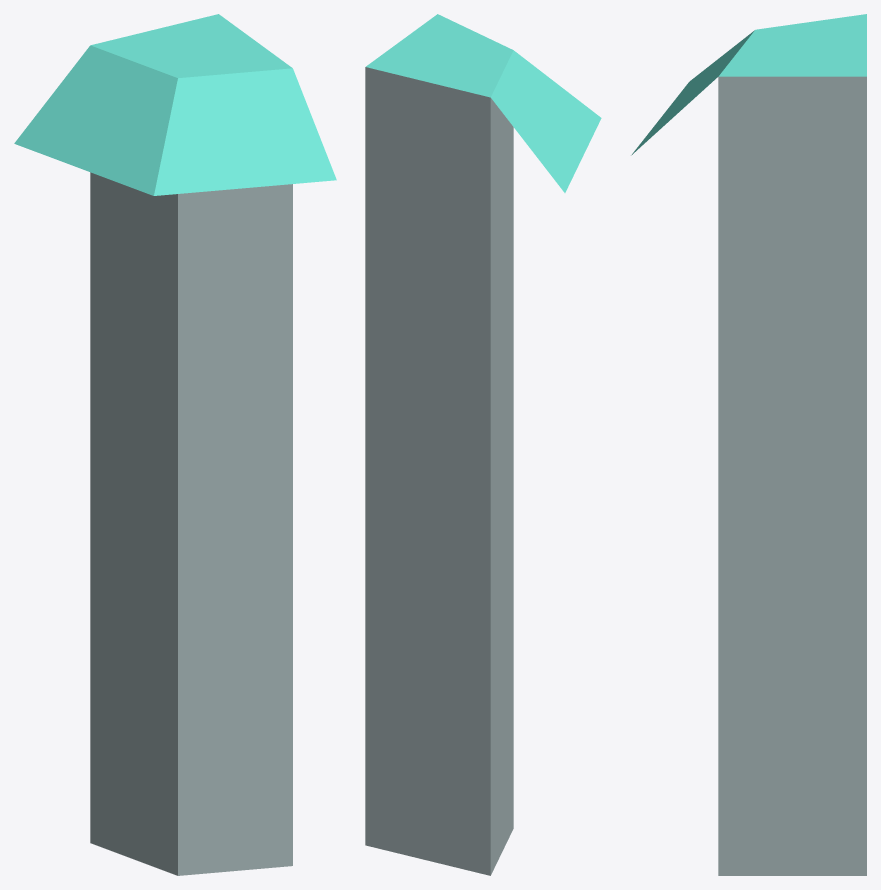
3 views of the same model, side by side, from view 1: azimuth 30°, elevation 25°; view 2: azimuth 150°, elevation 25°; view 3: azimuth 270°, elevation 25° (orthographic). The views are drawn at different scales.
Visible parts, largest first — view 1: cliff_cornerTop_stone; view 2: cliff_cornerTop_stone; view 3: cliff_cornerTop_stone.
Part boxes in pixels (x1,y1,x2,y2): cliff_cornerTop_stone: (14,14,336,875); cliff_cornerTop_stone: (365,14,601,875); cliff_cornerTop_stone: (631,14,866,875).
Size of the model in its own units: 0.2685 by 1 by 0.2685.
